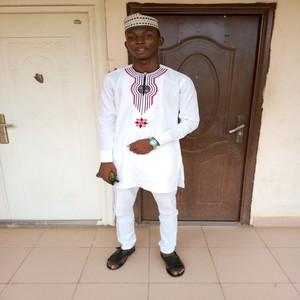Fulokoja_male_student: (99, 21, 188, 280)
